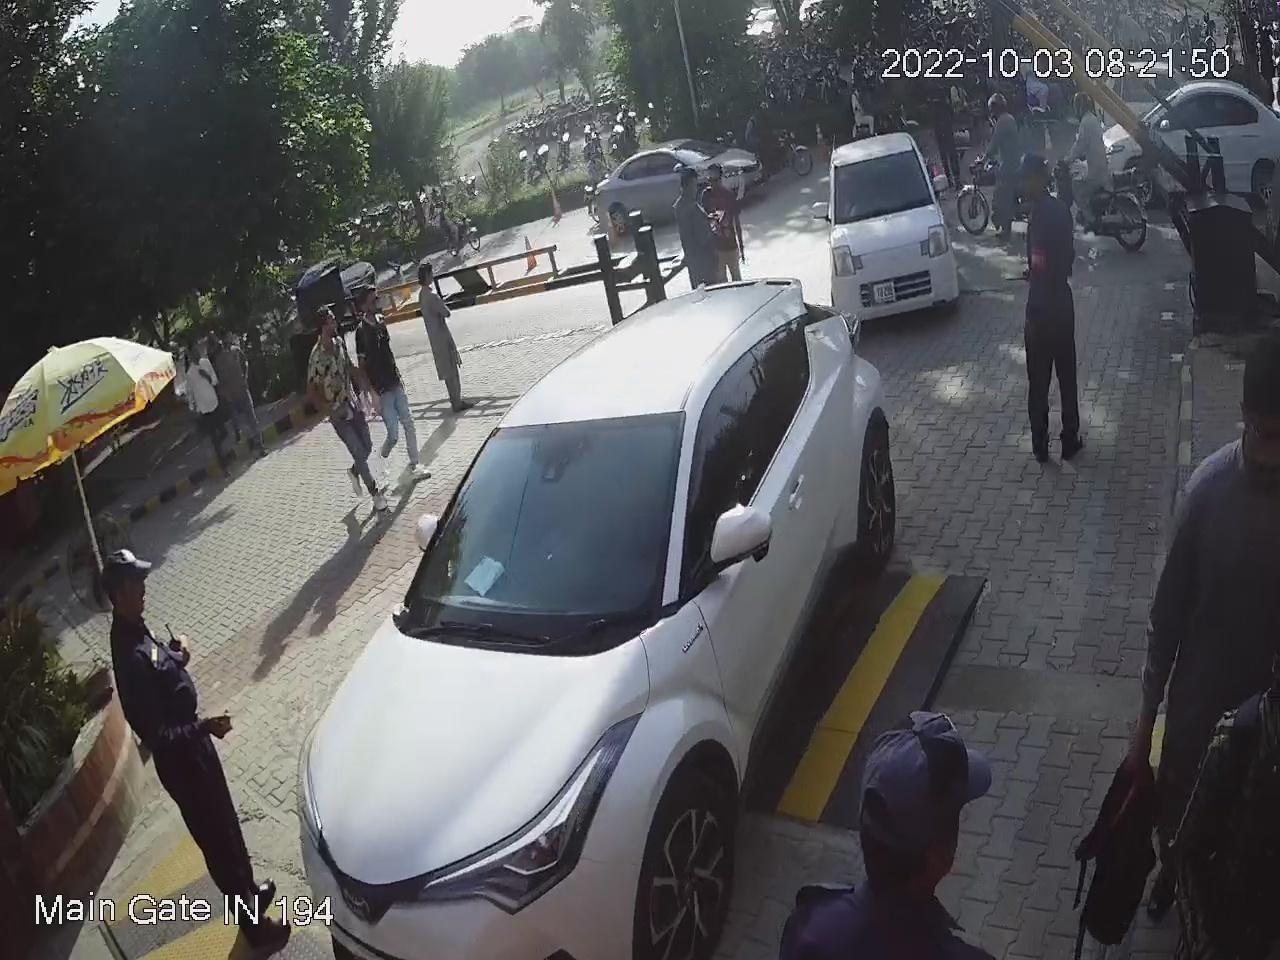windshield: (393, 397, 695, 650), (833, 140, 938, 228)
